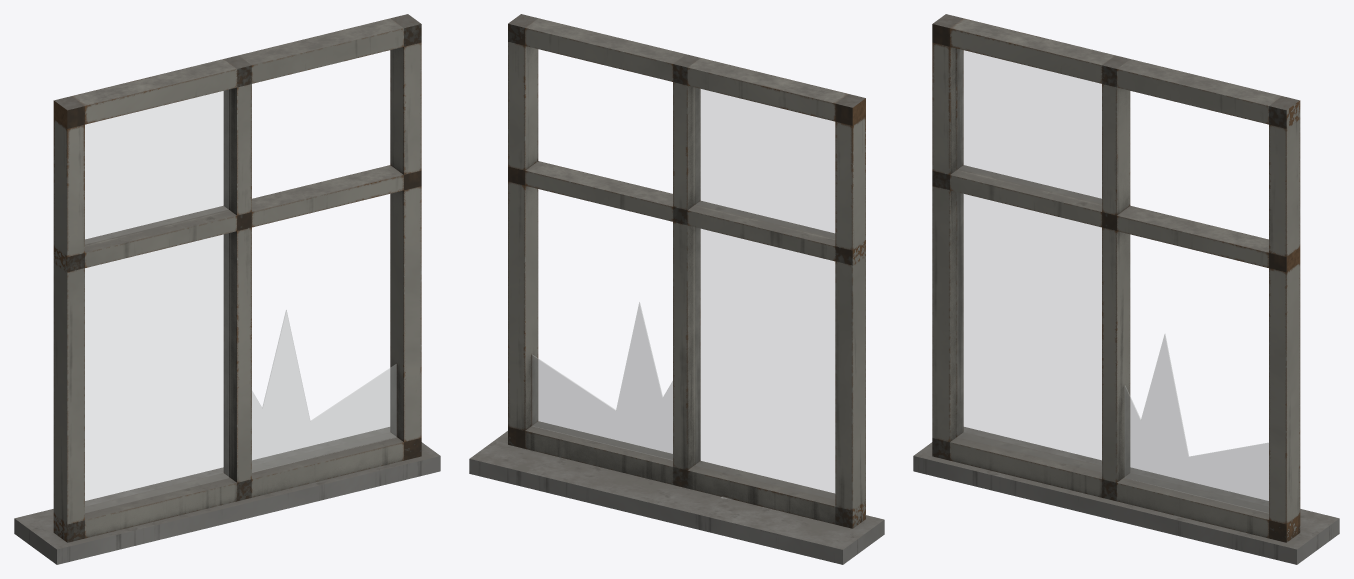
Rendered from SM_Window_Broken.fbx.
The picture shows the model from 3 angles, left to right: view 1: azimuth 30°, elevation 25°; view 2: azimuth 150°, elevation 25°; view 3: azimuth 330°, elevation 25°; orthographic projection. The views are drawn at different scales.
Parts seen in each view (by area): view 1: SM_Window_Broken; view 2: SM_Window_Broken; view 3: SM_Window_Broken.
Boxes of the visible parts, <box> form: SM_Window_Broken: <box>14,14,440,564</box>; SM_Window_Broken: <box>469,14,884,564</box>; SM_Window_Broken: <box>913,14,1339,564</box>.
Size of the model in its own units: 1.3 by 1.45 by 0.25.
Materials: 2 (1 with a texture image).
